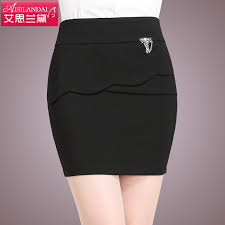F_tailored skirt: (42, 15, 186, 184)
